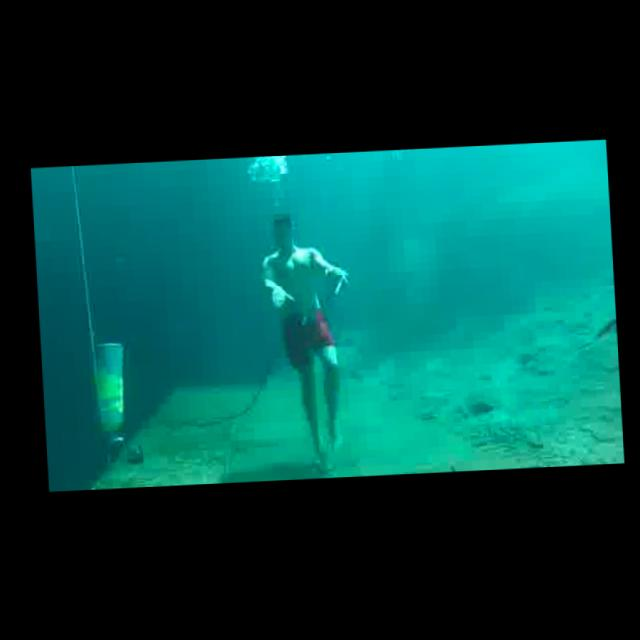human: (251, 205, 361, 481)
